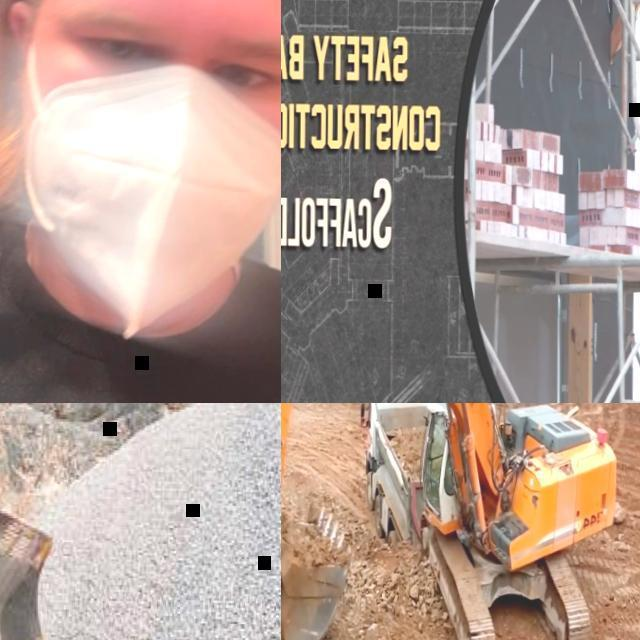no_helmet: (6, 0, 288, 222)
